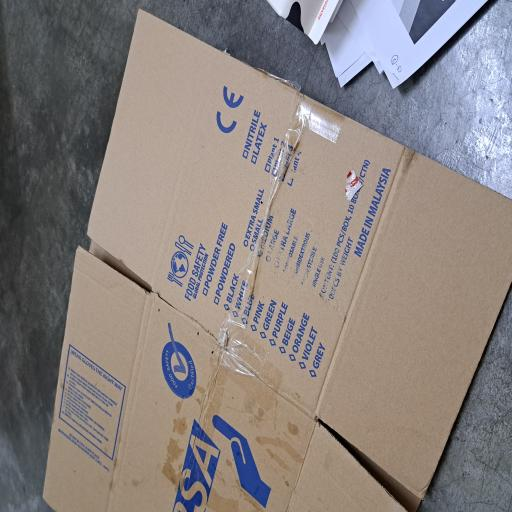cardboard: (0, 53, 377, 512)
paper: (318, 358, 384, 512)
